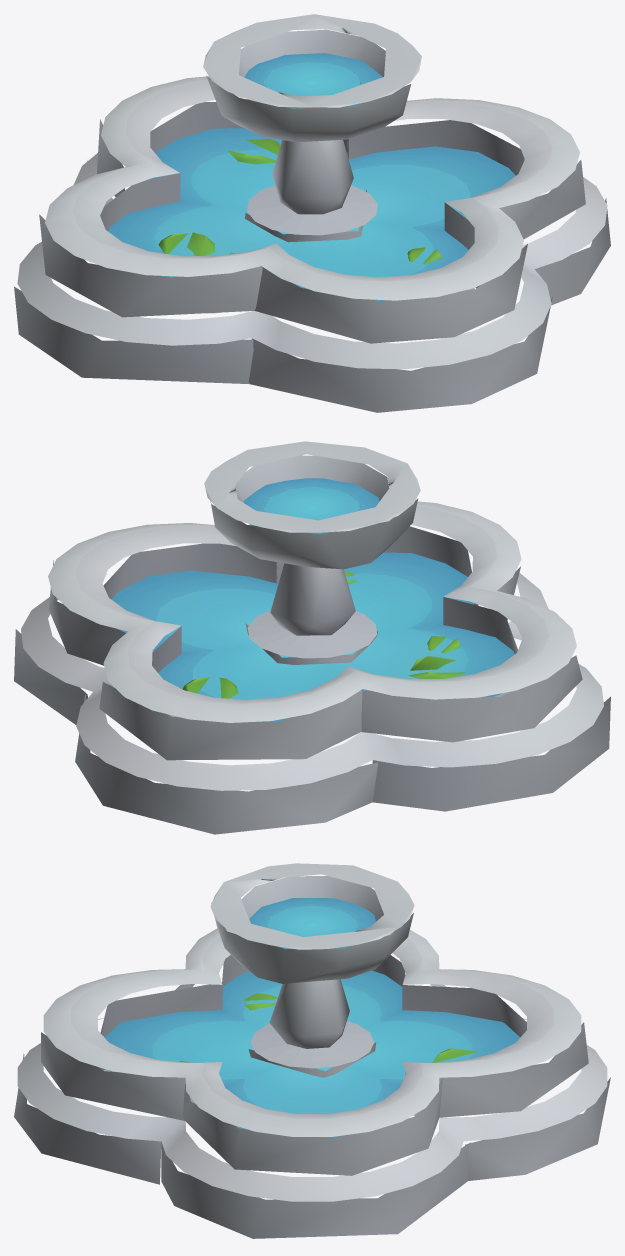
The model's file is fountain.glb.
The picture shows the model from 3 angles, top to bottom: view 1: azimuth 30°, elevation 25°; view 2: azimuth 150°, elevation 25°; view 3: azimuth 270°, elevation 25°; orthographic projection. The views are drawn at different scales.
Visible parts, largest first — view 1: fountain; view 2: fountain; view 3: fountain.
Boxes of the visible parts, x1,y1,x2,y2 form: fountain: (14,14,610,412); fountain: (14,441,610,834); fountain: (14,863,610,1238).
Size of the model in its own units: 6 by 2.38 by 6.07.
Materials: 1 (1 with a texture image).
